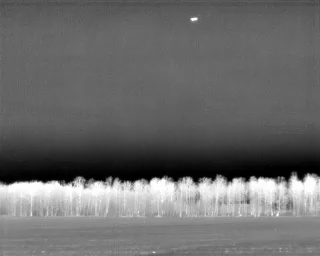DRONE: (187, 13, 201, 26)
